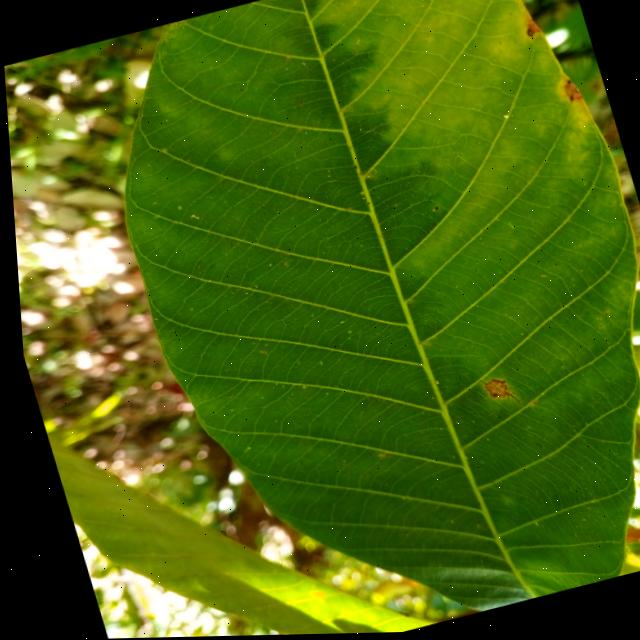Colletotrichum: (430, 207, 436, 212)
Corynespora: (469, 372, 519, 417)
Leaf-Blight: (561, 81, 580, 104), (527, 20, 540, 36)
